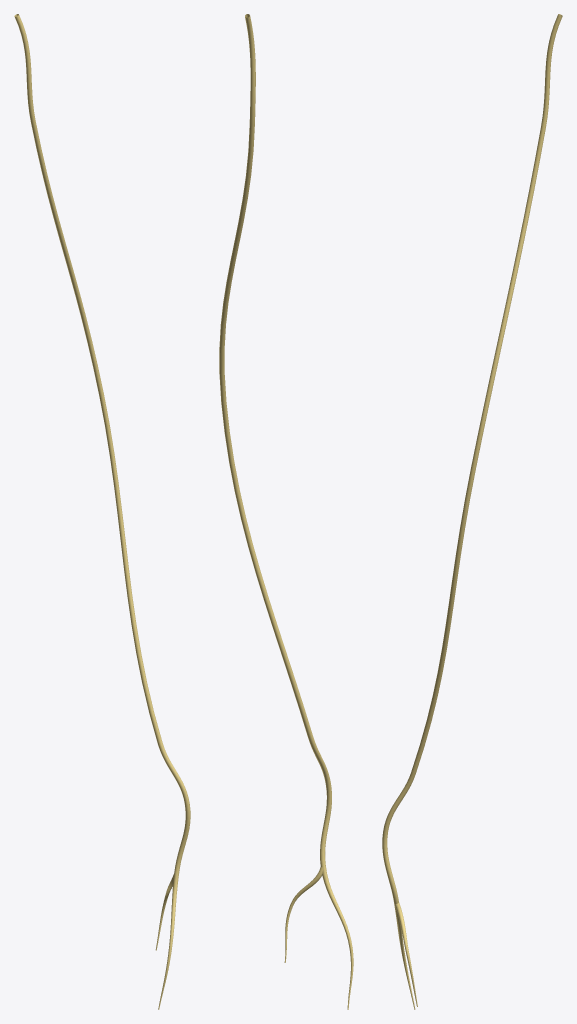
3 views of the same model, side by side, from view 1: azimuth 90°, elevation 25°; view 2: azimuth 150°, elevation 25°; view 3: azimuth 270°, elevation 25° (orthographic). The views are drawn at different scales.
Visible parts, largest first — view 1: ZA_8db80ebea5dcdbfc; view 2: ZA_8db80ebea5dcdbfc; view 3: ZA_8db80ebea5dcdbfc.
Boxes of the visible parts, x1,y1,x2,y2 form: ZA_8db80ebea5dcdbfc: (14,14,190,1009); ZA_8db80ebea5dcdbfc: (219,14,353,1009); ZA_8db80ebea5dcdbfc: (382,14,562,1009).
Size of the model in its own units: 0.0212 by 0.2172 by 0.0353.
